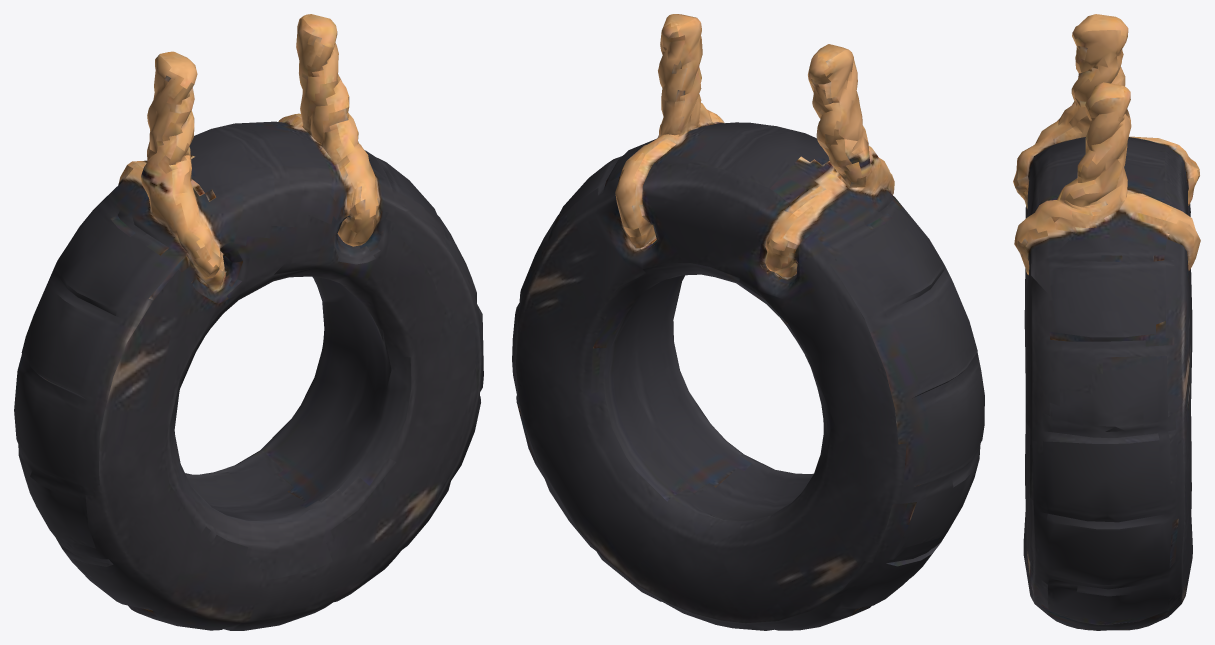
File: arene_pneu_suspendu.glb
The picture shows the model from 3 angles, left to right: view 1: azimuth 30°, elevation 25°; view 2: azimuth 150°, elevation 25°; view 3: azimuth 270°, elevation 25°; orthographic projection. The views are drawn at different scales.
Parts seen in each view (by area): view 1: Mesh0; view 2: Mesh0; view 3: Mesh0.
Boxes of the visible parts, box(x1,y1,x2,y2) form: Mesh0: box(14, 14, 483, 630); Mesh0: box(512, 14, 984, 630); Mesh0: box(1013, 14, 1200, 630).
Size of the model in its own units: 1.48 by 1.9 by 0.5796.
1 material, 1 textured.
